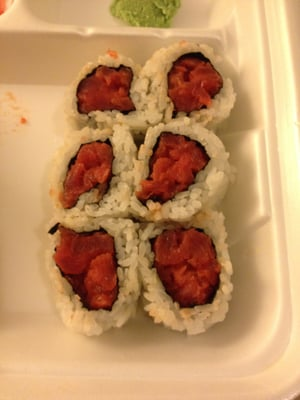soup: (42, 41, 236, 338)
